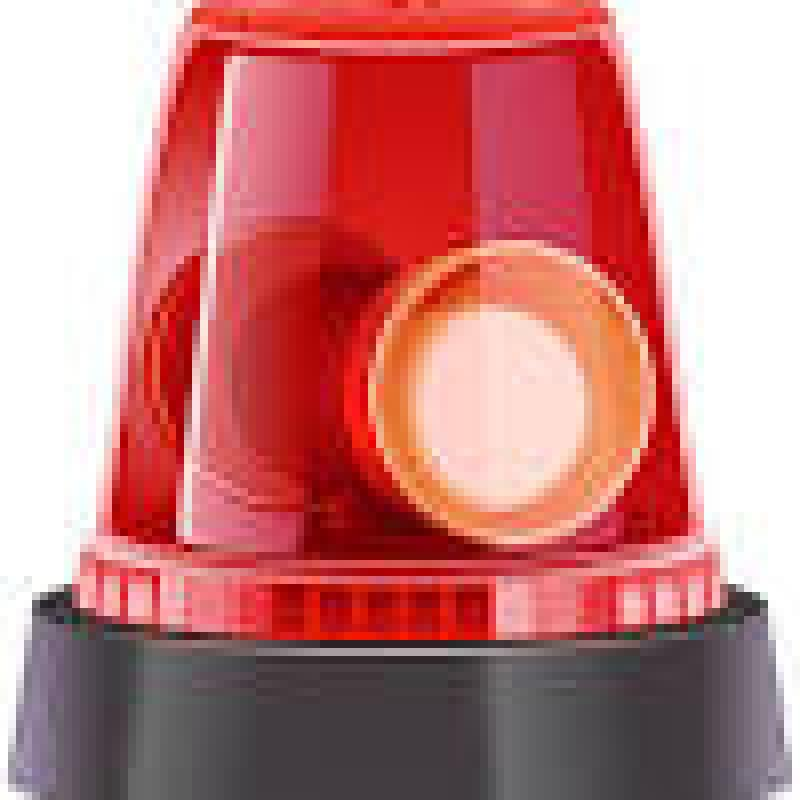AmbulanceSiren: (66, 0, 800, 800)
